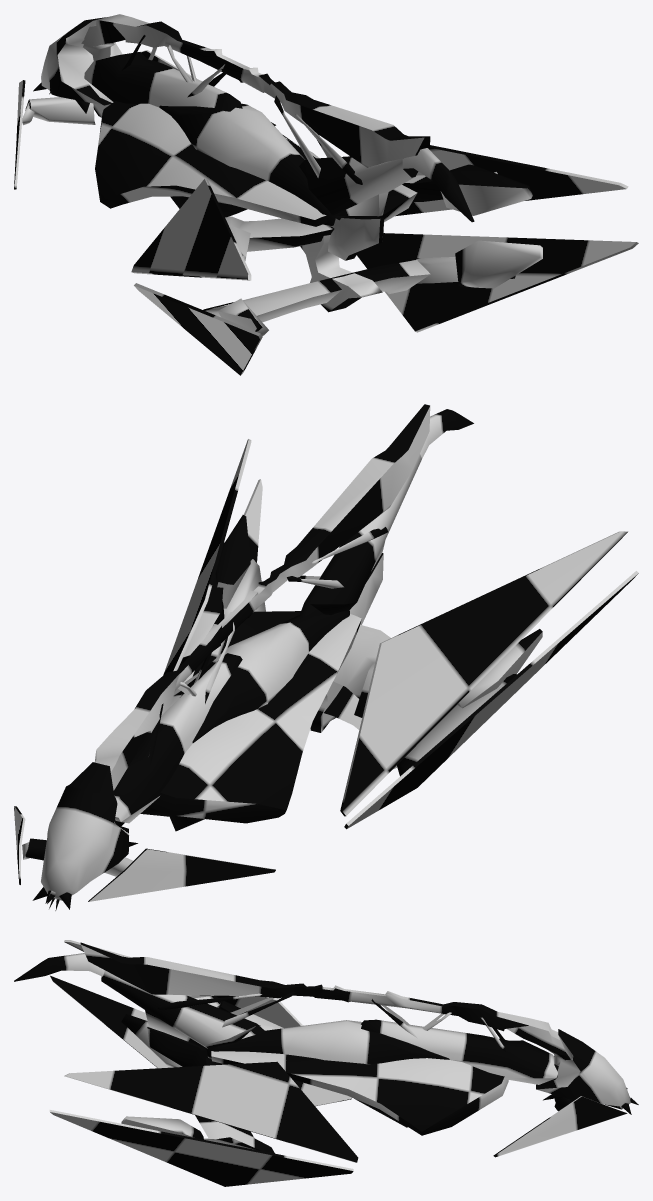
File: melter.obj
3 renders of one model, top to bottom at view 1: azimuth 30°, elevation 25°; view 2: azimuth 150°, elevation 25°; view 3: azimuth 270°, elevation 25°, orthographic. The views are drawn at different scales.
Parts seen in each view (by area): view 1: melter; view 2: melter; view 3: melter.
Boxes of the visible parts, box(x1,y1,x2,y2) form: melter: box(14, 14, 638, 375); melter: box(14, 404, 638, 910); melter: box(14, 940, 638, 1186).
Size of the model in its own units: 3.71 by 2.7 by 7.21.
1 material, 1 textured.
